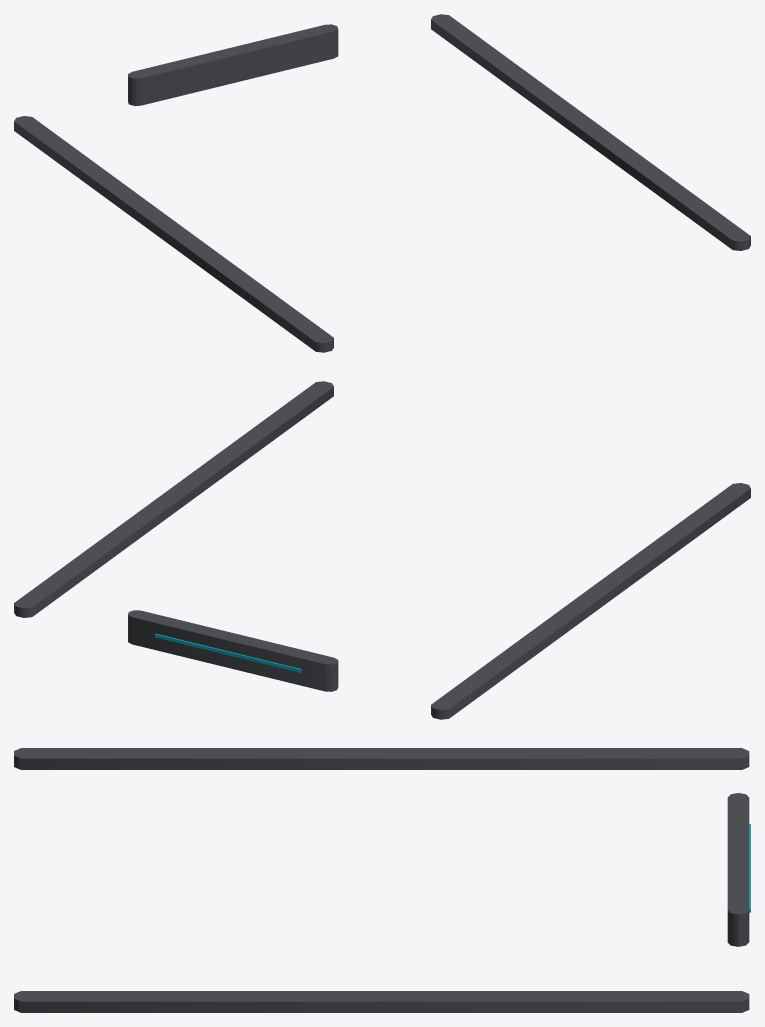
Rendered from n2_mount.obj.
3 views of the same model, one above another, from view 1: azimuth 30°, elevation 25°; view 2: azimuth 150°, elevation 25°; view 3: azimuth 270°, elevation 25° (orthographic). The views are drawn at different scales.
Parts seen in each view (by area): view 1: n2_mount; view 2: n2_mount; view 3: n2_mount.
Part boxes in pixels (x1=…): n2_mount: x1=14, y1=14, x2=750, y2=352; n2_mount: x1=14, y1=381, x2=750, y2=719; n2_mount: x1=14, y1=748, x2=750, y2=1012.
Size of the model in its own units: 1.67 by 0.1 by 2.05.
